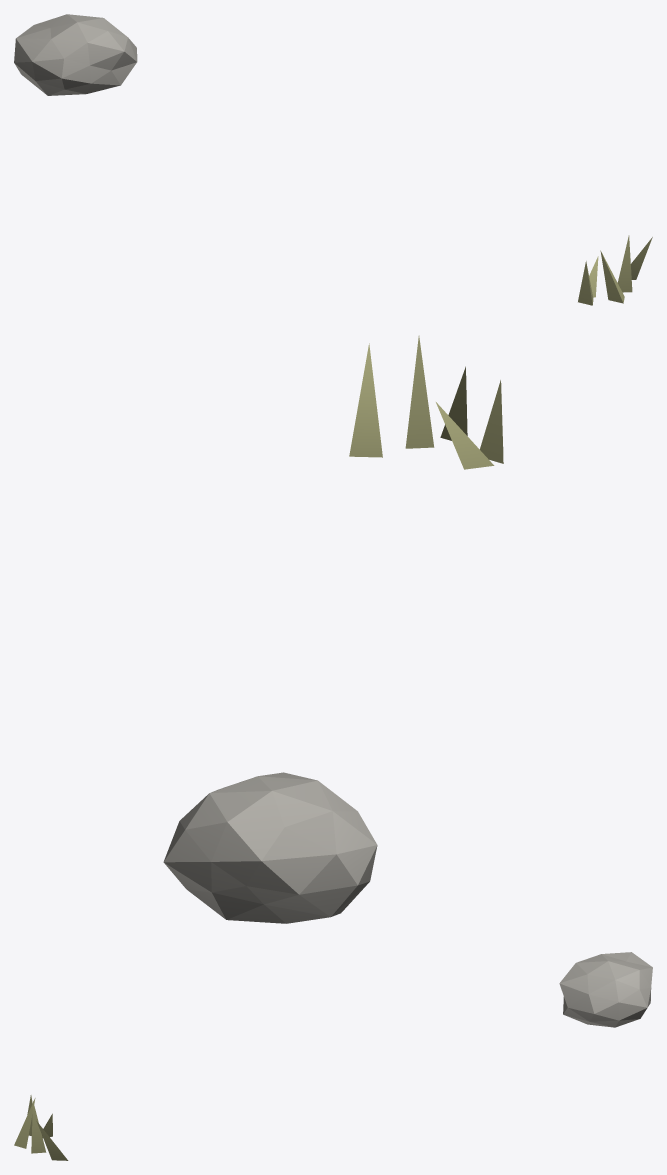
Rendered from coast_land_scatter_c13_19.glb.
3 views of the same model, one above another, from view 1: azimuth 30°, elevation 25°; view 2: azimuth 150°, elevation 25°; view 3: azimuth 270°, elevation 25° (orthographic). The views are drawn at different scales.
Parts seen in each view (by area): view 1: coast_land_scatter_c13_19; view 2: coast_land_scatter_c13_19; view 3: coast_land_scatter_c13_19.
Part boxes in pixels (bbox=[...]): coast_land_scatter_c13_19: bbox=[14, 14, 652, 305]; coast_land_scatter_c13_19: bbox=[163, 335, 503, 923]; coast_land_scatter_c13_19: bbox=[14, 952, 652, 1160].
Size of the model in its own units: 4.75 by 1.37 by 9.14.
